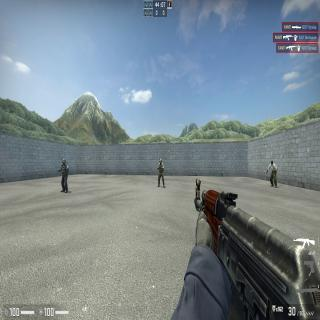CT-Body: (269, 160, 277, 187), (158, 159, 164, 187)
CT-Head: (62, 158, 66, 164), (160, 159, 162, 164), (271, 161, 273, 165)
T-Body: (61, 158, 68, 193)
